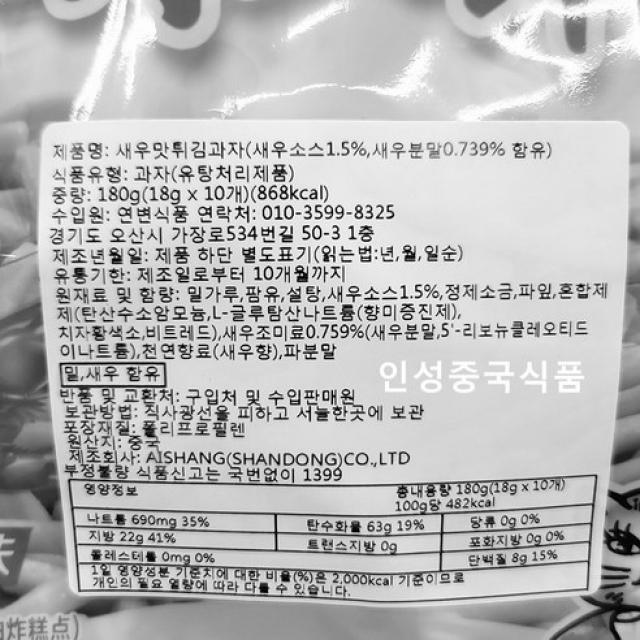Nutrition Label: (64, 472, 599, 598)
